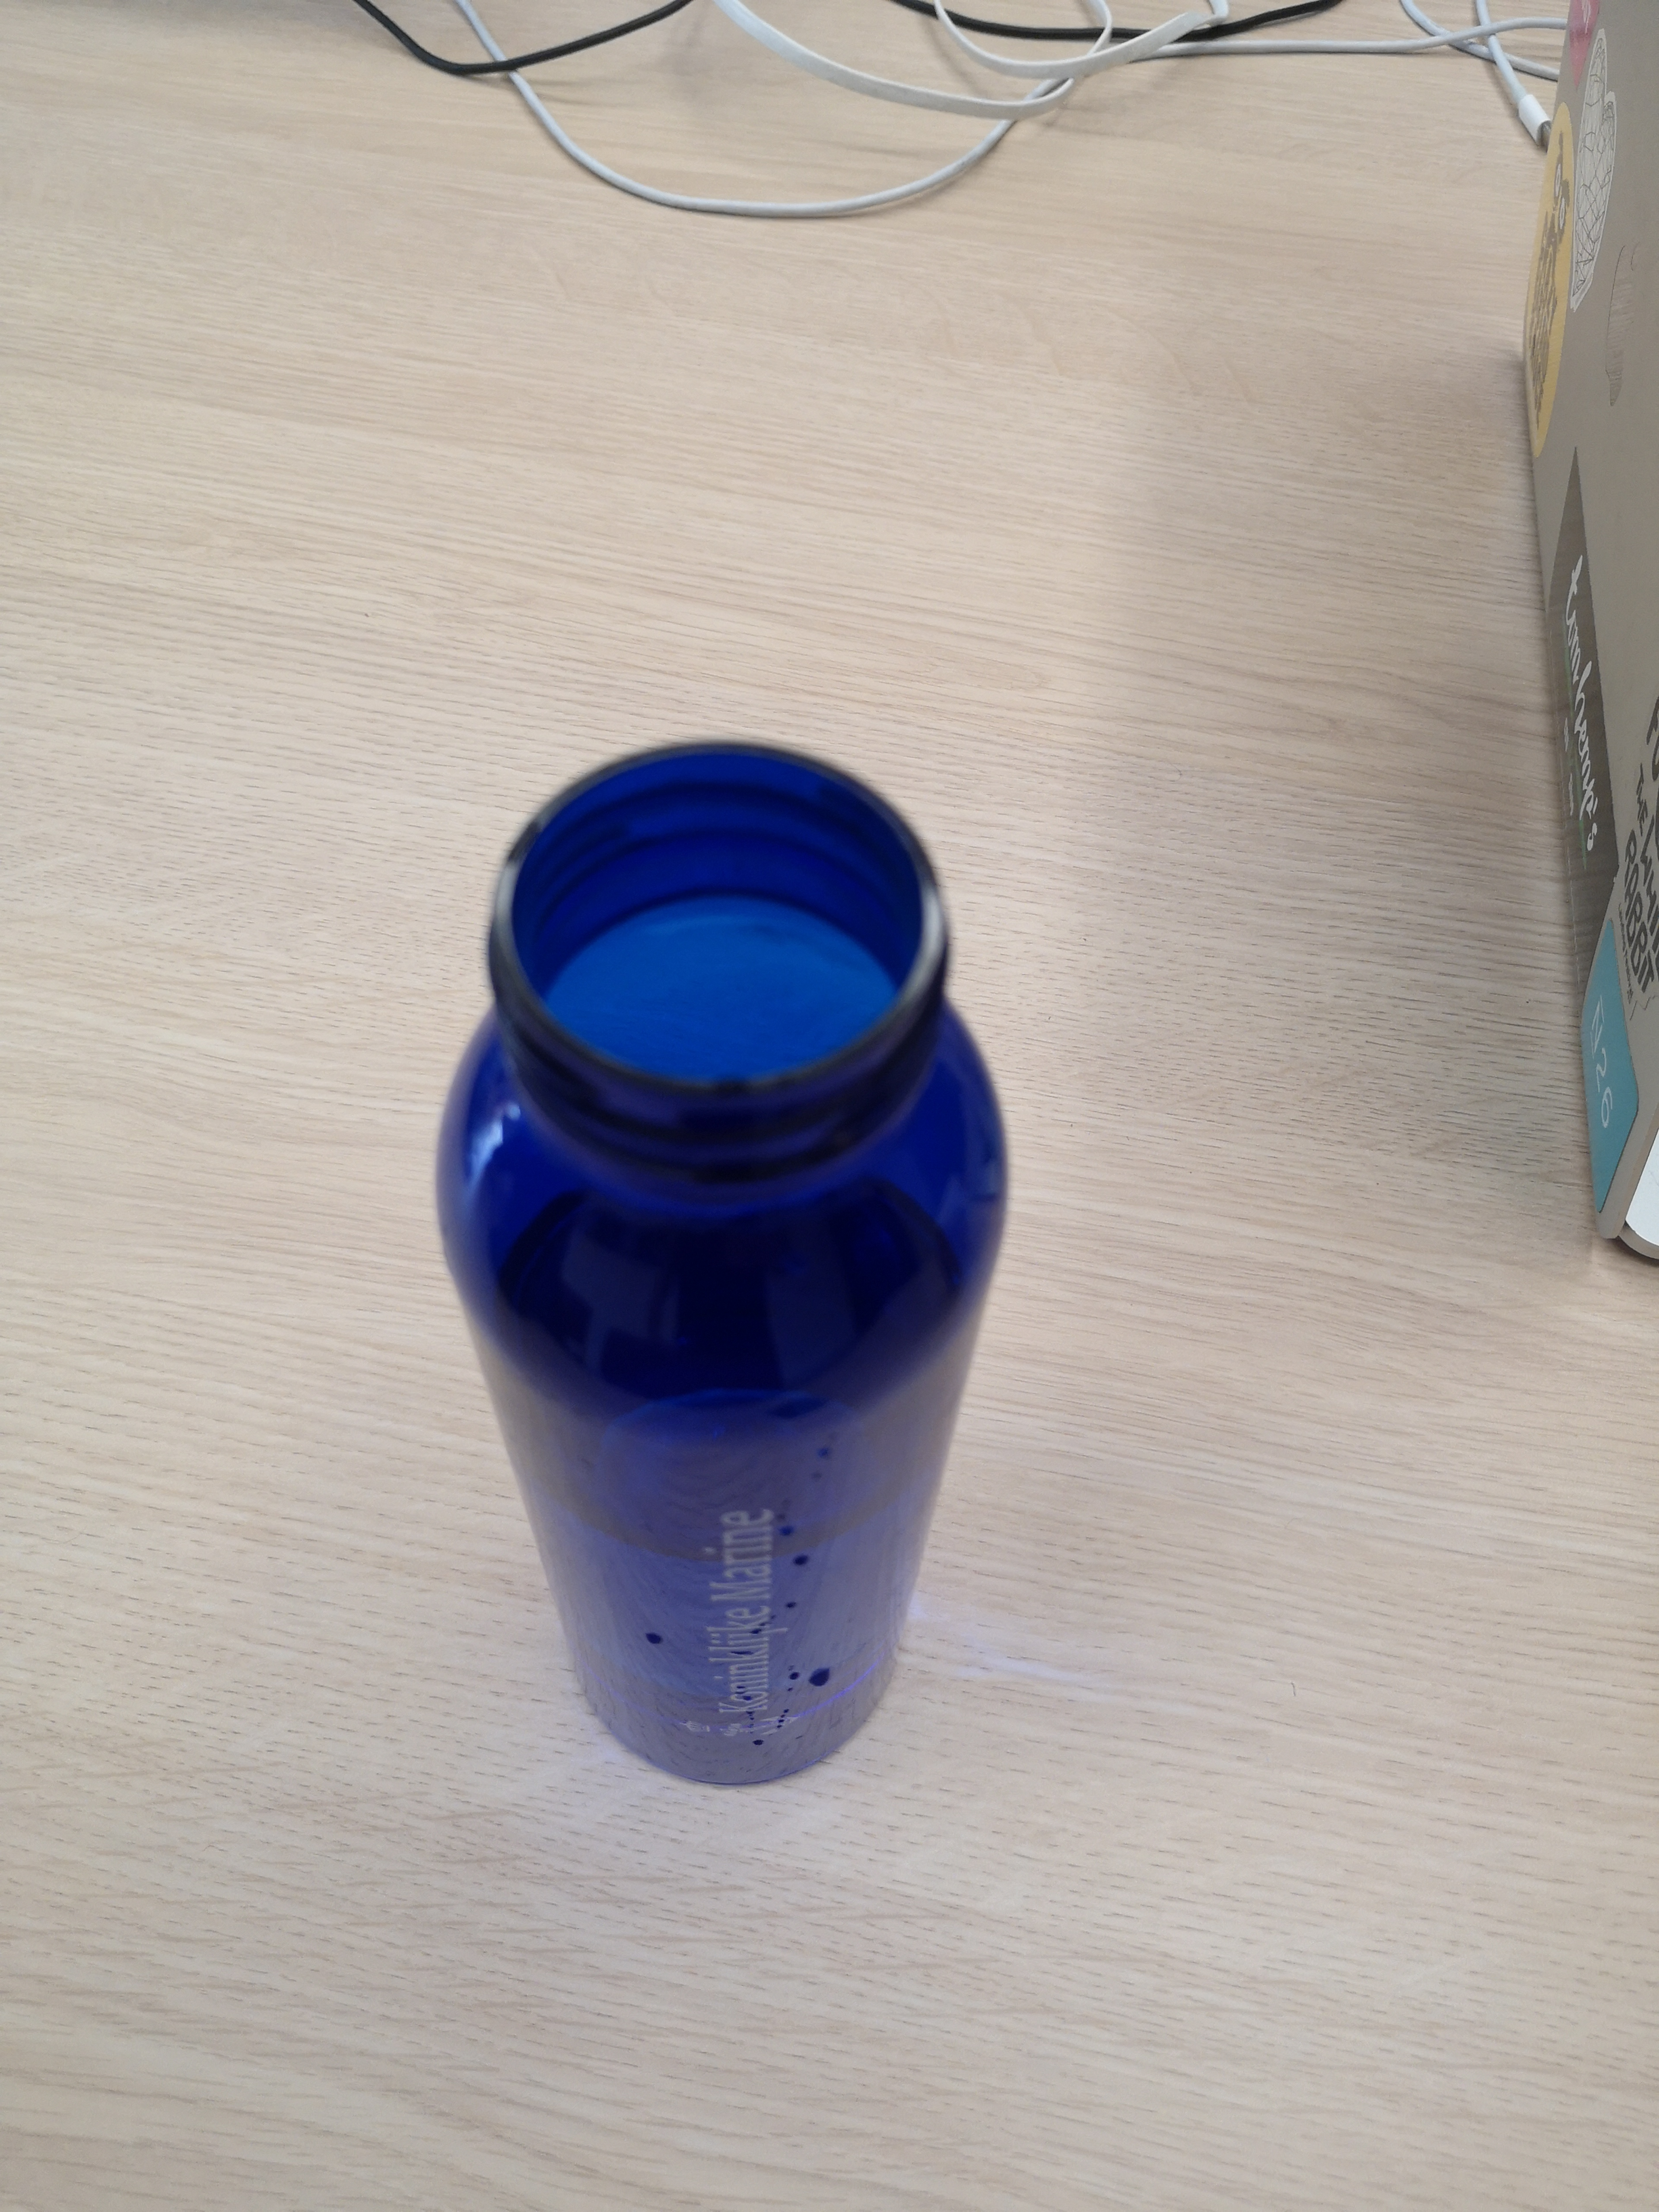plastic_bottle: (387, 695, 1028, 1825)
